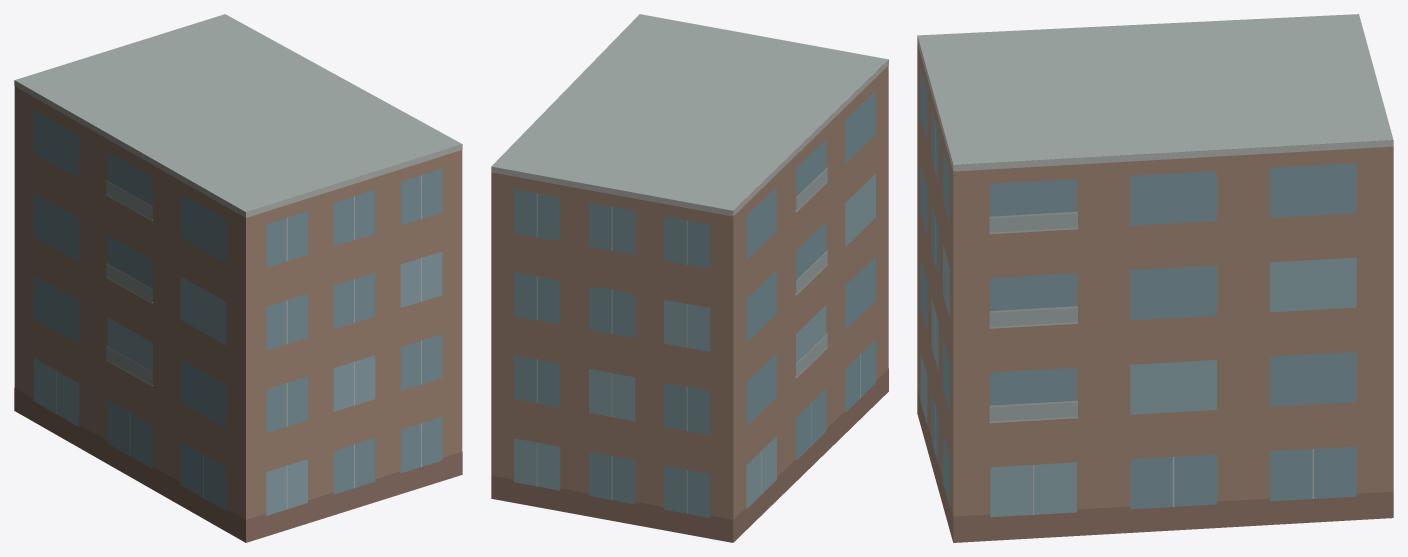
Rendered from survey-upis-32718708.glb.
3 views of the same model, side by side, from view 1: azimuth 30°, elevation 25°; view 2: azimuth 150°, elevation 25°; view 3: azimuth 270°, elevation 25° (orthographic). The views are drawn at different scales.
Visible parts, largest first — view 1: survey-upis-32718708.tmp; view 2: survey-upis-32718708.tmp; view 3: survey-upis-32718708.tmp.
Boxes of the visible parts, box(x1,y1,x2,y2) form: survey-upis-32718708.tmp: box(14, 14, 462, 542); survey-upis-32718708.tmp: box(491, 14, 888, 542); survey-upis-32718708.tmp: box(917, 14, 1393, 542).
Bounding box in the file's own units: 11.91 × 13.9 × 15.88.
